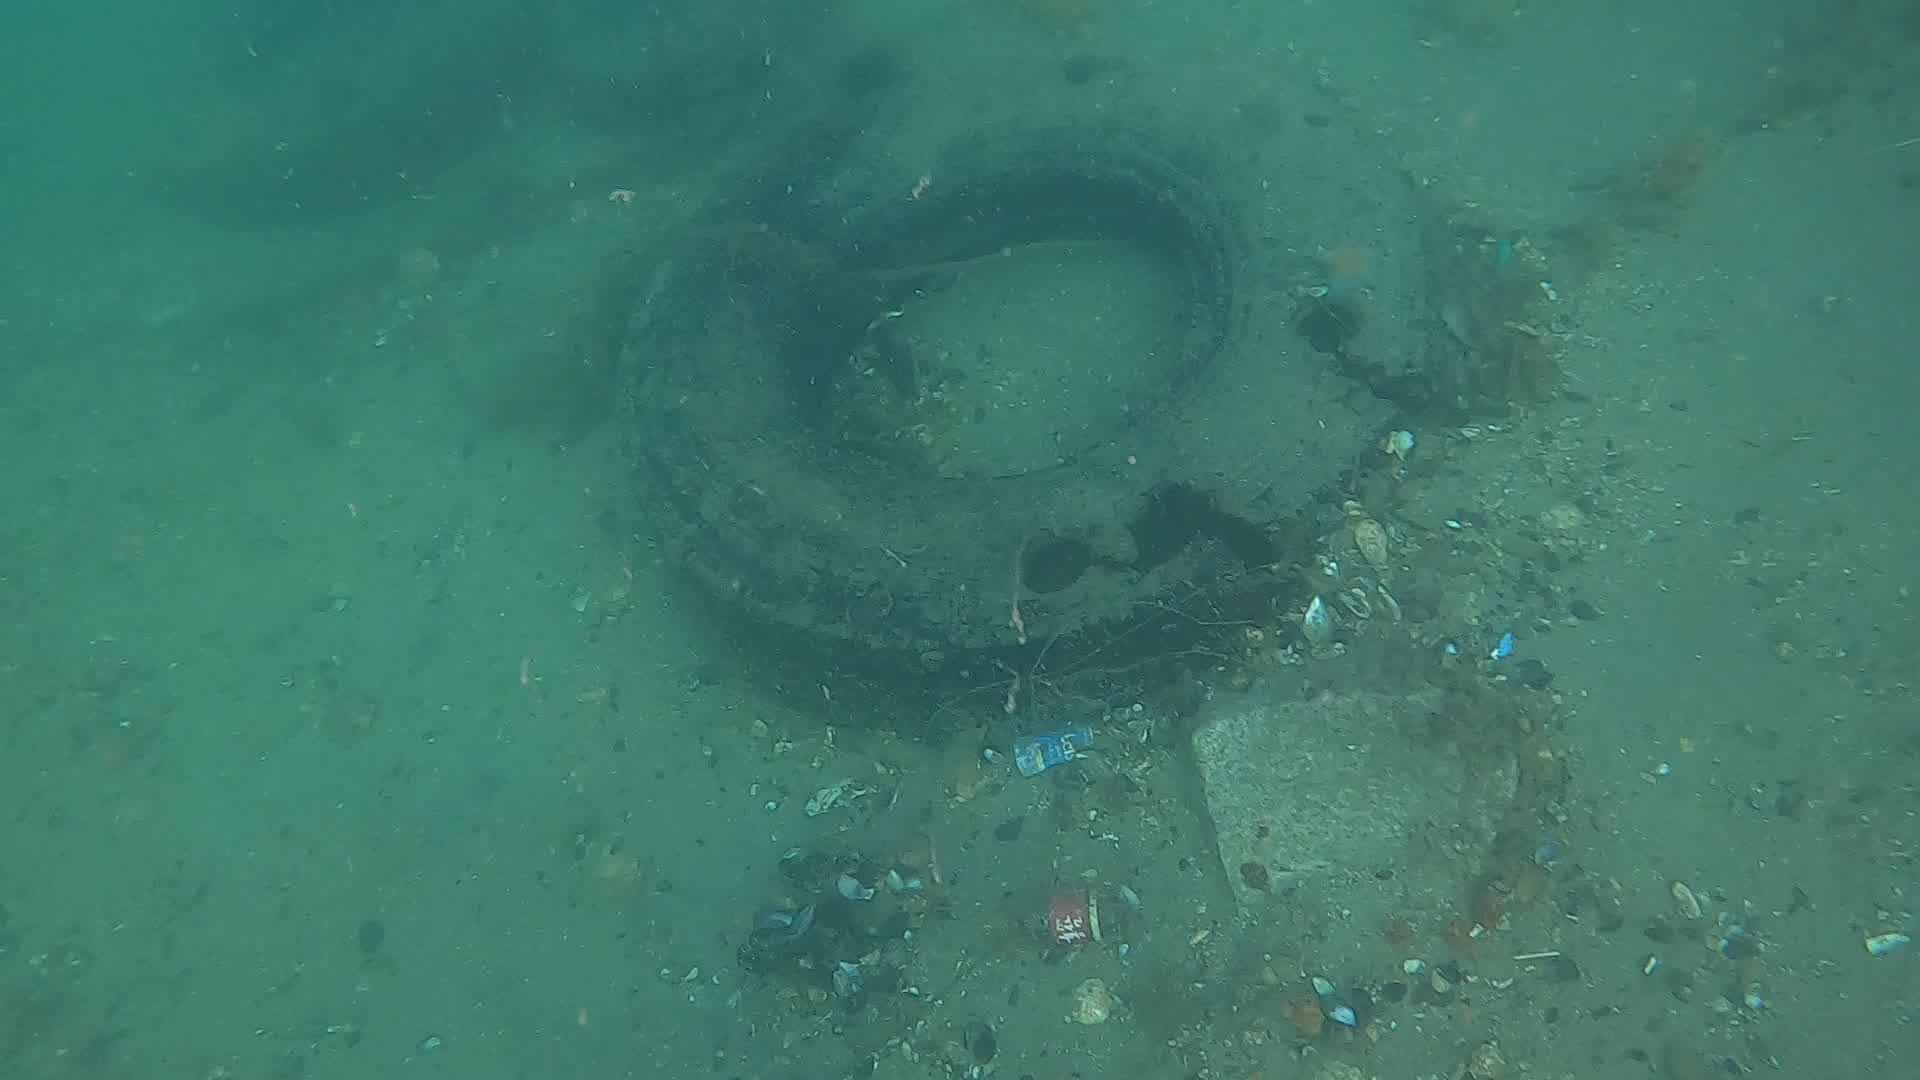tire: (621, 51, 1437, 703)
